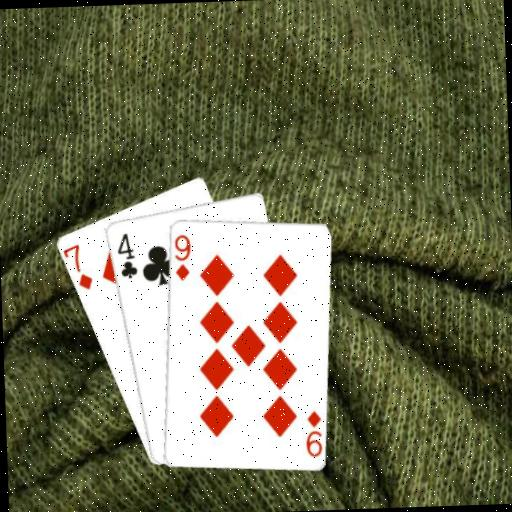4C: (112, 229, 139, 280)
7D: (61, 240, 94, 292)
9D: (171, 230, 193, 282), (301, 407, 323, 458)
